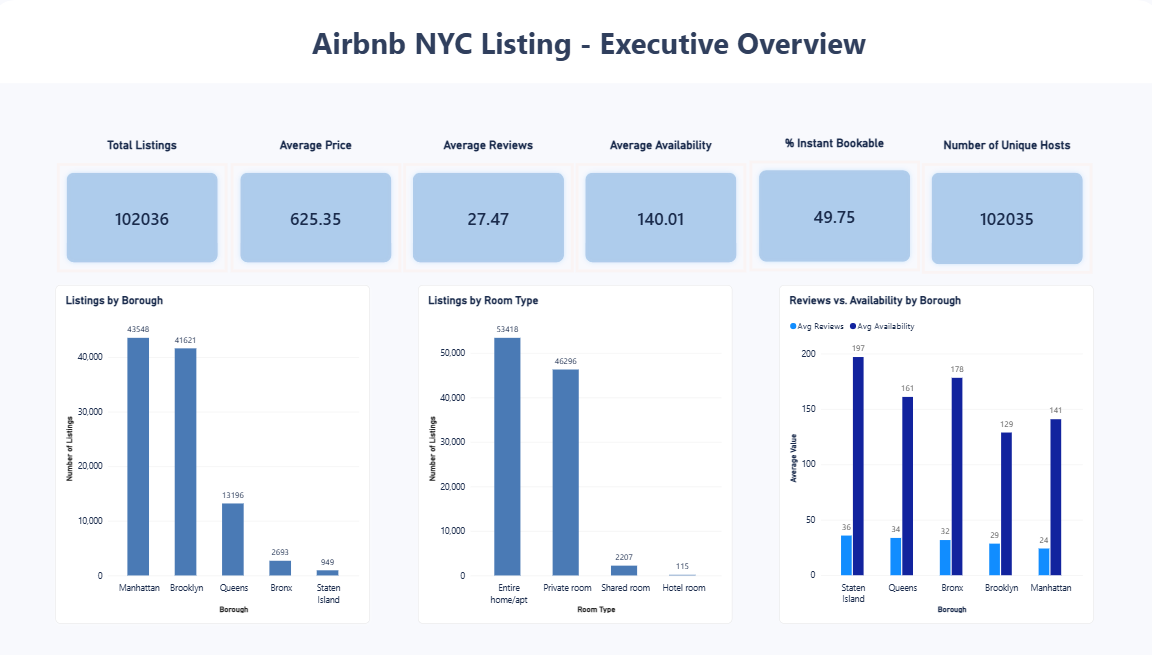

The page's visual inventory and layout, read from the dashboard file:
{"tool":"powerbi","page":{"name":"Executive Overview","canvas":[1920,1080],"ordinal":0},"visuals":[{"type":"cardVisual","title":"Average Price","fields":{"Data":["Avg(project_airbnb airbnb_listings.price)"]},"box":[388,229.5,285,222.5],"z":0},{"type":"cardVisual","title":"Average Reviews","fields":{"Data":["Avg(project_airbnb airbnb_listings.number_of_reviews)"]},"box":[673,229.5,285,222.5],"z":1000},{"type":"cardVisual","title":"Average Availability","fields":{"Data":["Avg(project_airbnb airbnb_listings.availability_365)"]},"box":[958,229.5,285,222.5],"z":2000},{"type":"cardVisual","title":"Number of Unique Hosts","fields":{"Data":["Count(project_airbnb airbnb_listings.host_id)"]},"box":[1528,229.5,285,225],"z":3000},{"type":"cardVisual","title":"% Instant Bookable","fields":{"Data":["project_airbnb airbnb_listings.Pct Instant Boookable"]},"box":[1242.5,225,285,225],"z":4000},{"type":"clusteredColumnChart","title":"Listings by Borough","fields":{"Category":["project_airbnb airbnb_listings.neighbourhood_group"],"Y":["CountNonNull(project_airbnb airbnb_listings.id)"]},"box":[102.5,470,517.5,557.5],"z":5000},{"type":"clusteredColumnChart","title":"Listings by Room Type","fields":{"Category":["project_airbnb airbnb_listings.room_type"],"Y":["CountNonNull(project_airbnb airbnb_listings.id)"]},"box":[700,470,517.5,557.5],"z":6000},{"type":"clusteredColumnChart","title":"Reviews vs. Availability by Borough","fields":{"Category":["project_airbnb airbnb_listings.neighbourhood_group"],"Y":["Avg(project_airbnb airbnb_listings.number_of_reviews)","Avg(project_airbnb airbnb_listings.availability_365)"]},"box":[1295,470,517.5,557.5],"z":7000},{"type":"cardVisual","title":"Total Listings","fields":{"Data":["CountNonNull(project_airbnb airbnb_listings.id)"]},"box":[102.5,227.5,285,222.5],"z":8000},{"type":"shape","box":[0,0,1920,137.5],"z":9000},{"type":"textbox","box":[100,115,300,285],"z":10000},{"type":"textbox","box":[342.5,37.5,1280,100],"z":11000}]}

Visuals, with their boxes in screenshot pixels (x1, y1, x2, y2), scaled from the page's 1920x1080 canvas onto the 1152x655 screenshot:
"Average Price" cardVisual: {"left": 233, "top": 139, "right": 404, "bottom": 274}
"Average Reviews" cardVisual: {"left": 404, "top": 139, "right": 575, "bottom": 274}
"Average Availability" cardVisual: {"left": 575, "top": 139, "right": 746, "bottom": 274}
"Number of Unique Hosts" cardVisual: {"left": 917, "top": 139, "right": 1088, "bottom": 276}
"% Instant Bookable" cardVisual: {"left": 746, "top": 136, "right": 916, "bottom": 273}
"Listings by Borough" clusteredColumnChart: {"left": 62, "top": 285, "right": 372, "bottom": 623}
"Listings by Room Type" clusteredColumnChart: {"left": 420, "top": 285, "right": 730, "bottom": 623}
"Reviews vs. Availability by Borough" clusteredColumnChart: {"left": 777, "top": 285, "right": 1088, "bottom": 623}
"Total Listings" cardVisual: {"left": 62, "top": 138, "right": 232, "bottom": 273}
shape: {"left": 0, "top": 0, "right": 1151, "bottom": 83}
textbox: {"left": 60, "top": 70, "right": 240, "bottom": 243}
textbox: {"left": 206, "top": 23, "right": 974, "bottom": 83}
